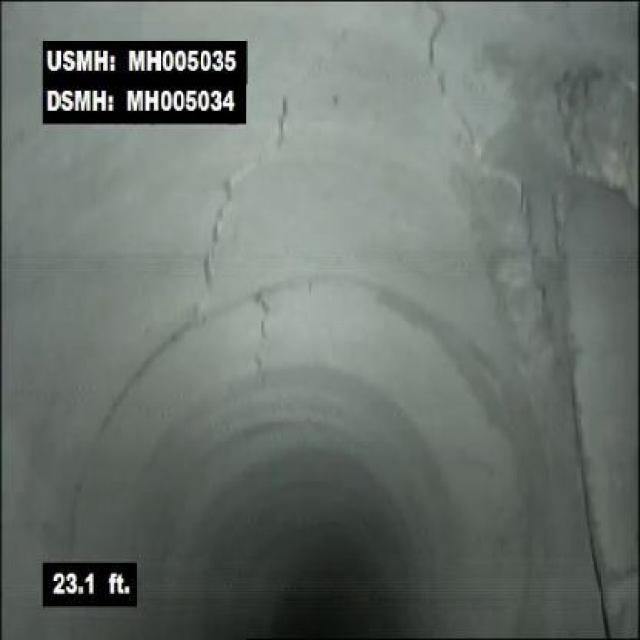Crack: (176, 125, 290, 286), (404, 0, 480, 155), (272, 11, 377, 120), (240, 291, 274, 378)
